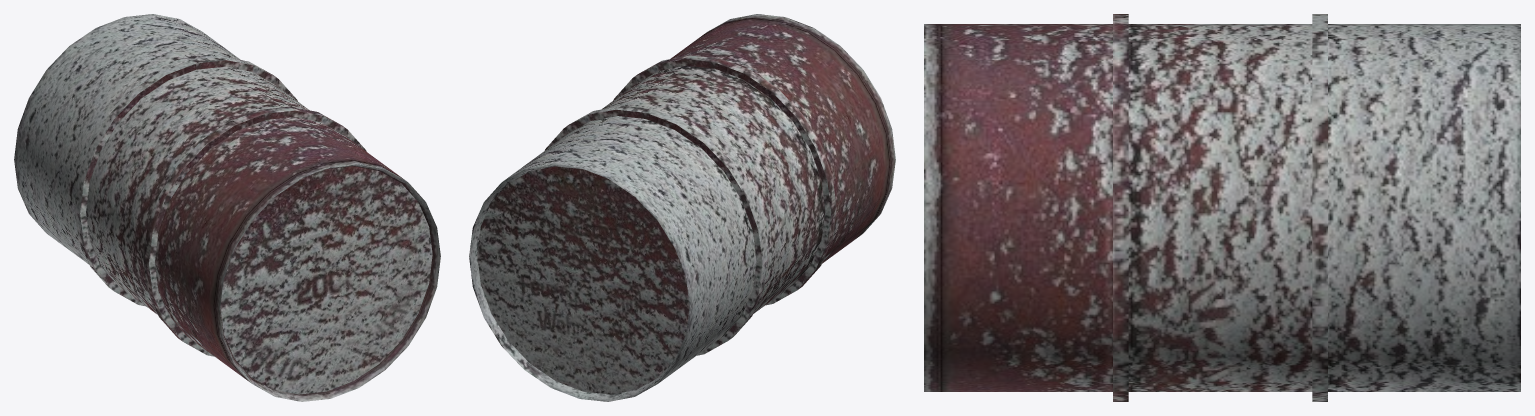
The model's file is prop_barrel_benzin_snow.glb.
3 renders of one model, left to right at view 1: azimuth 30°, elevation 25°; view 2: azimuth 150°, elevation 25°; view 3: azimuth 270°, elevation 25°, orthographic. The views are drawn at different scales.
Bounding box in the file's own units: 28.93 × 28.93 × 44.32.
1 material, 1 textured.
